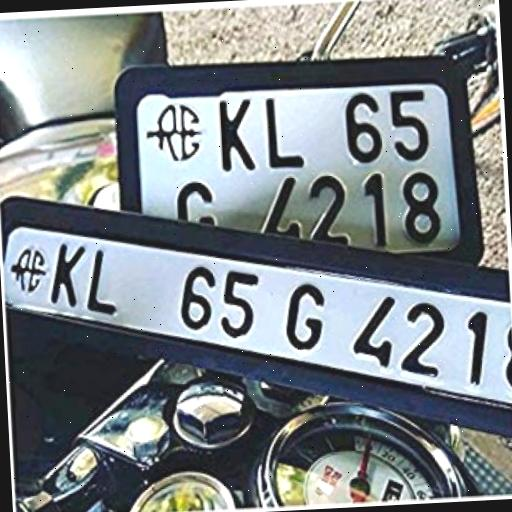number plate: (13, 193, 512, 442), (130, 66, 478, 270)
